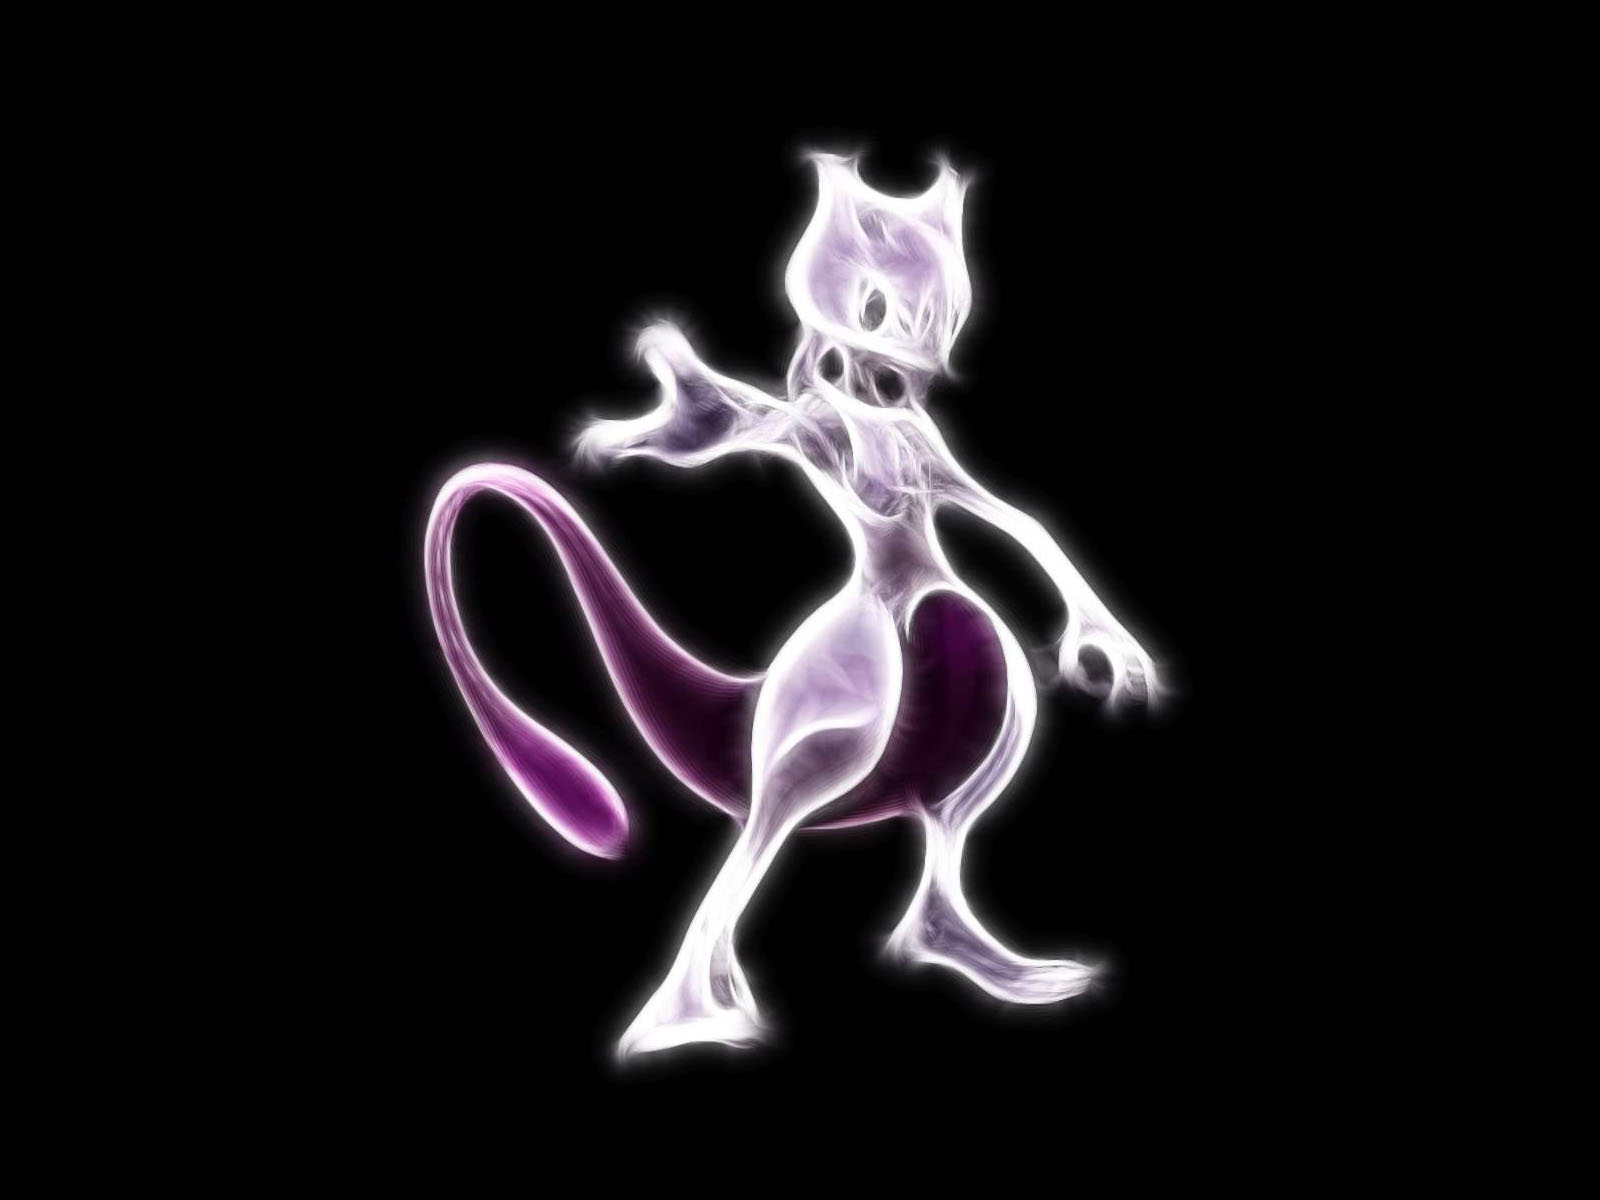mewtwo: (393, 106, 1264, 1105)
